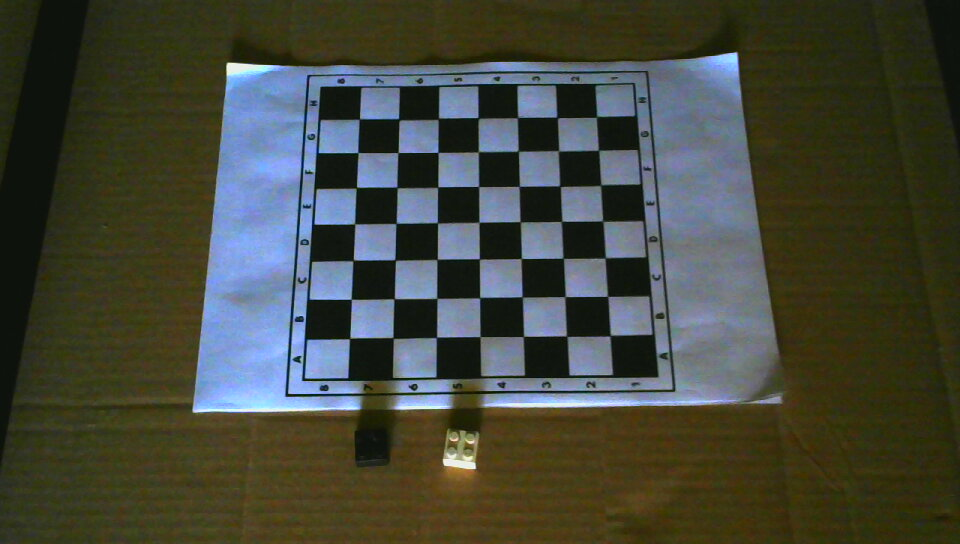bp: (353, 428, 389, 467)
wp: (442, 427, 479, 471)
